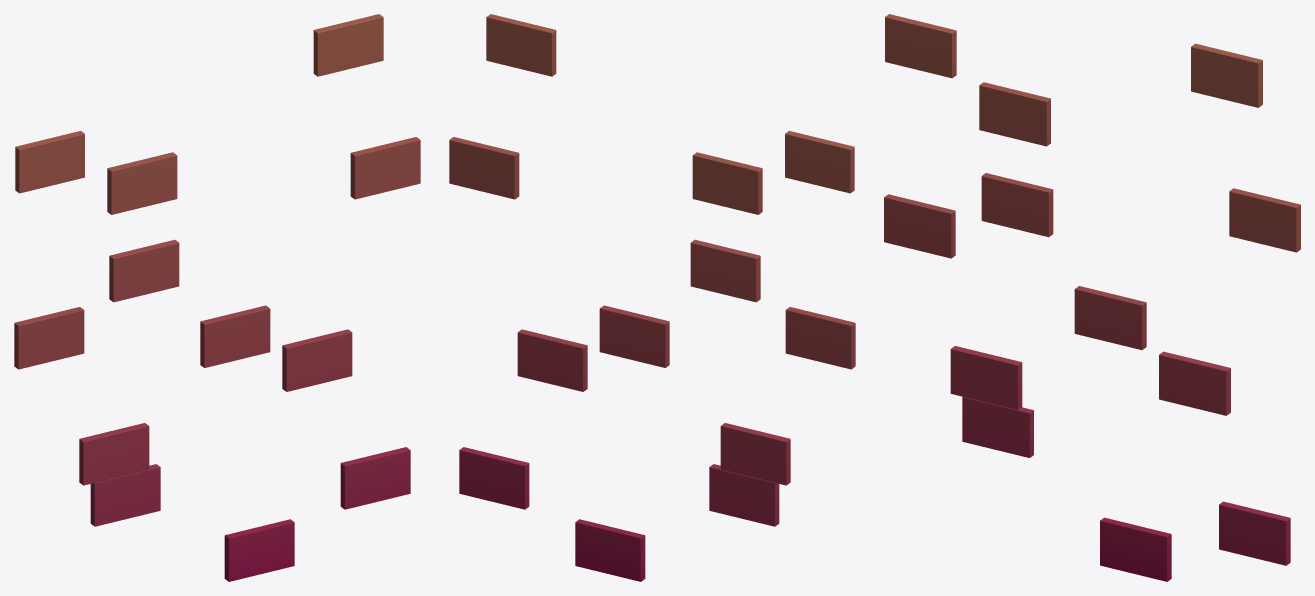
File: vines_1.glb
The picture shows the model from 3 angles, left to right: view 1: azimuth 30°, elevation 25°; view 2: azimuth 150°, elevation 25°; view 3: azimuth 330°, elevation 25°; orthographic projection. The views are drawn at different scales.
Parts seen in each view (by area): view 1: vines_1; view 2: vines_1; view 3: vines_1.
Boxes of the visible parts, bbox=[...] form: vines_1: bbox=[14, 14, 420, 581]; vines_1: bbox=[449, 14, 855, 581]; vines_1: bbox=[884, 14, 1300, 581].
Size of the model in its own units: 1.34 by 1.68 by 0.025.
